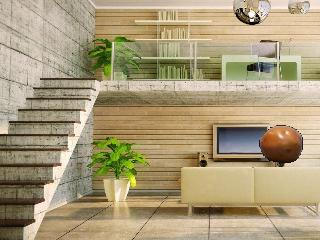potato: (256, 123, 306, 165)
